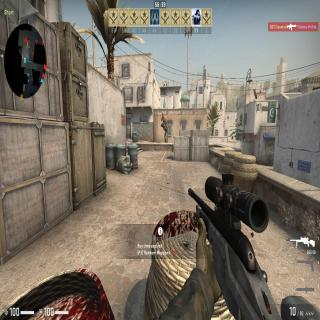T-Body: (164, 122, 168, 142), (161, 112, 165, 130)
T-Head: (162, 112, 164, 116), (165, 123, 166, 126)
